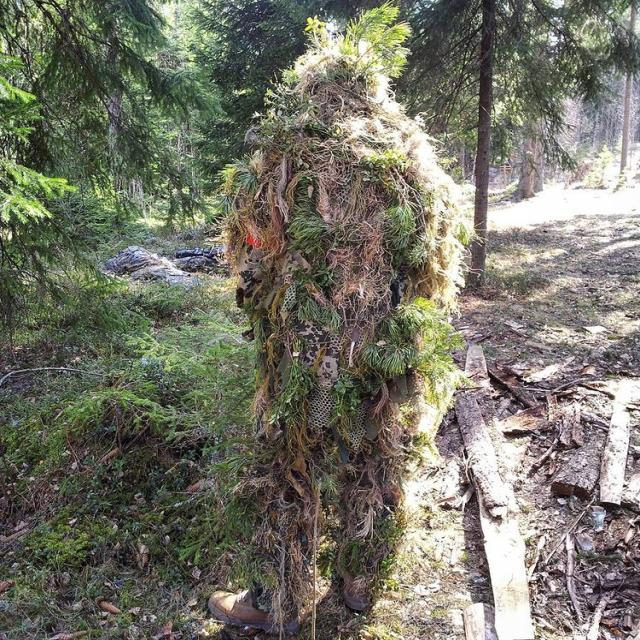human: (224, 53, 458, 634)
